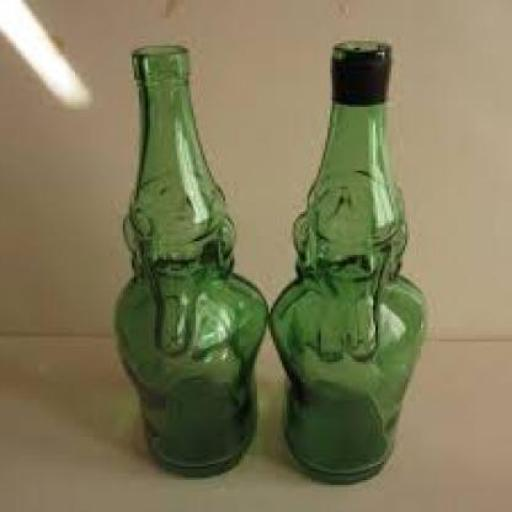glass: (116, 43, 270, 474), (271, 98, 428, 482)
plastic: (335, 39, 394, 103)
